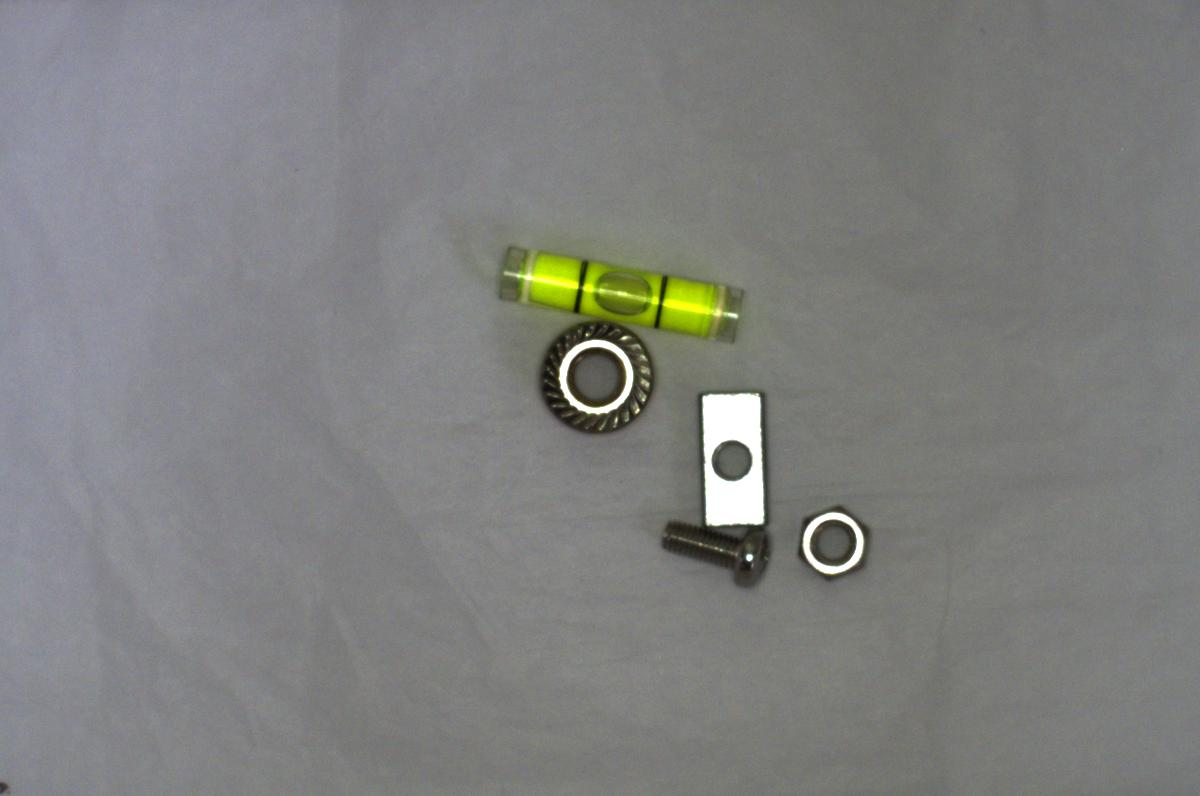Flange nut: (531, 315, 660, 439)
Hexagon nut: (787, 494, 872, 585)
Horizontal bubble: (490, 235, 747, 340)
Rectangular nut: (687, 376, 775, 526)
Round head screw: (645, 512, 775, 596)
